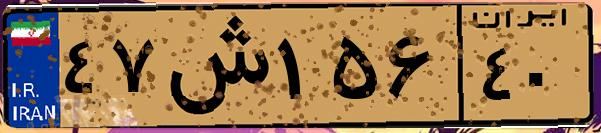0: (525, 38, 570, 115)
1: (270, 28, 330, 110)
4: (57, 26, 110, 100), (475, 38, 525, 113)
5: (330, 28, 385, 110)
6: (385, 28, 445, 110)
7: (110, 28, 158, 98)
ش: (158, 12, 270, 120)
